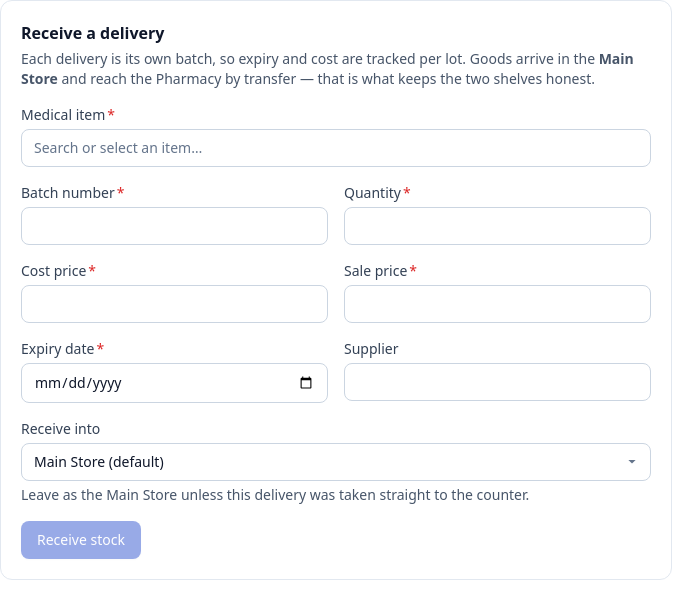
Test: Receive a delivery — the medical item field › narrows the list by name as you type
This screenshot has width=689, height=597.
Type "cotton" into the dropdown labelled "Medical item*" at (336, 148), box [21,129,651,167]
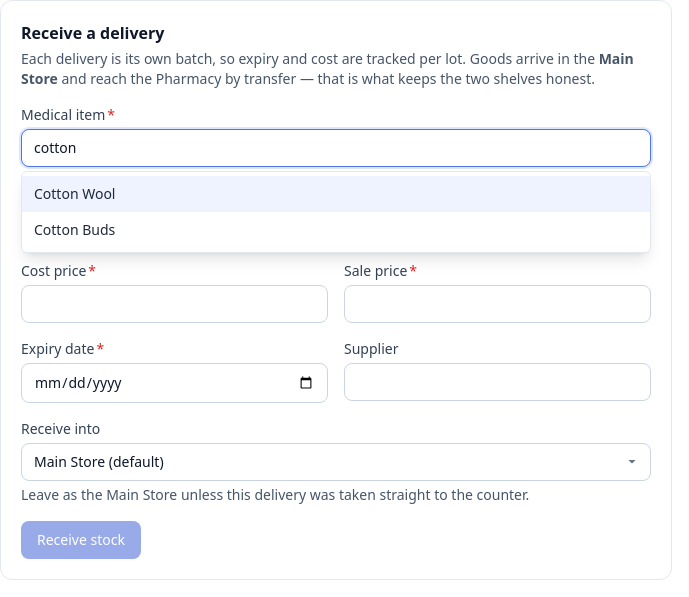
Replace the text in the dropdown labelled "Medical item*" with "para" at (336, 148), box [21,129,651,167]
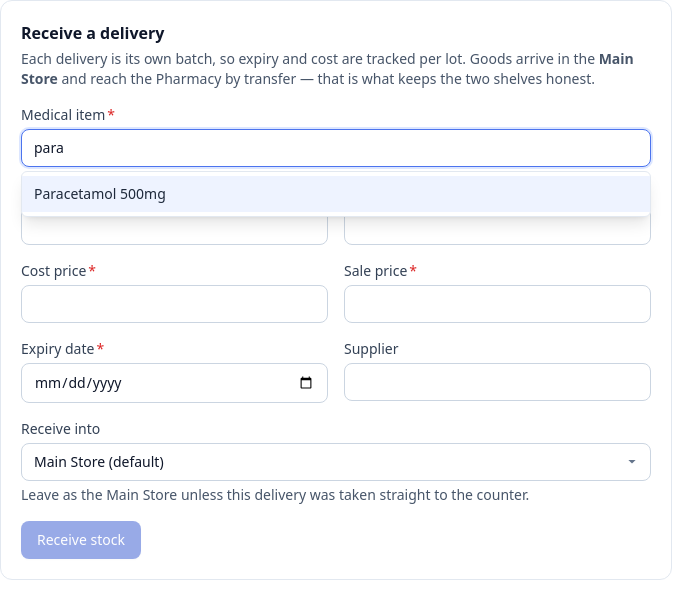
Replace the text in the dropdown labelled "Medical item*" with "zzz" at (336, 148), box [21,129,651,167]
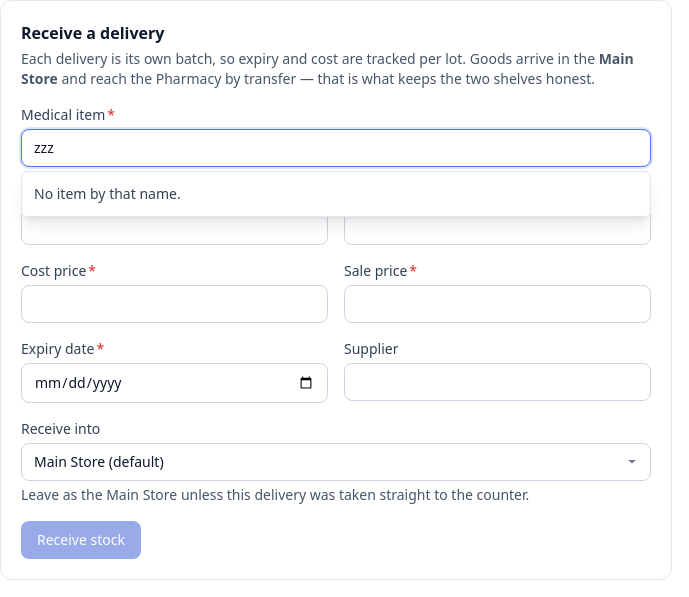
Result: the list item "No item by that name." is shown at [34,184,181,203]
